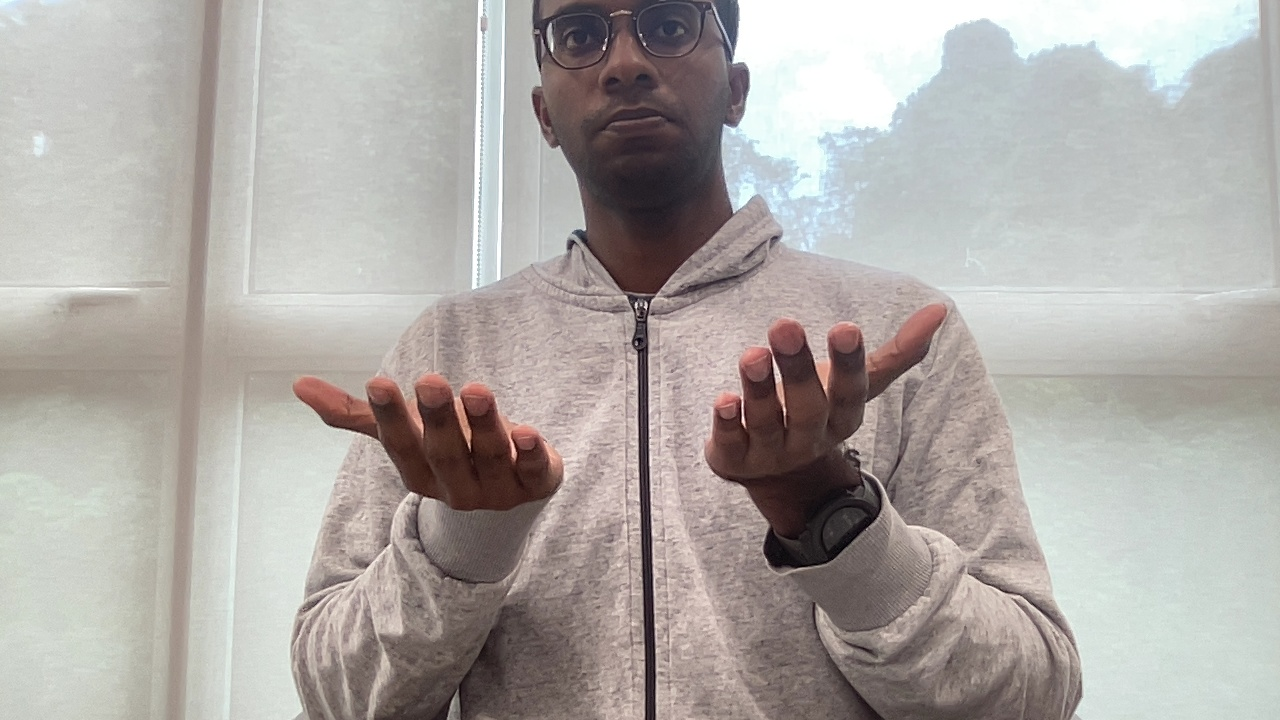give: (286, 296, 960, 518)
